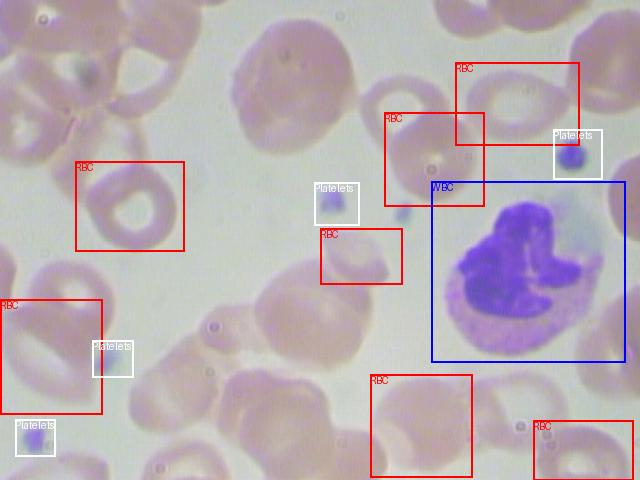Platelets: (553, 129, 602, 179), (314, 182, 359, 225), (92, 340, 133, 377), (15, 419, 55, 456)
RBC: (0, 299, 102, 414), (370, 374, 472, 477), (455, 62, 579, 145), (75, 161, 184, 251), (384, 112, 484, 206), (533, 420, 633, 480), (320, 228, 402, 284)
WBC: (431, 181, 625, 362)
